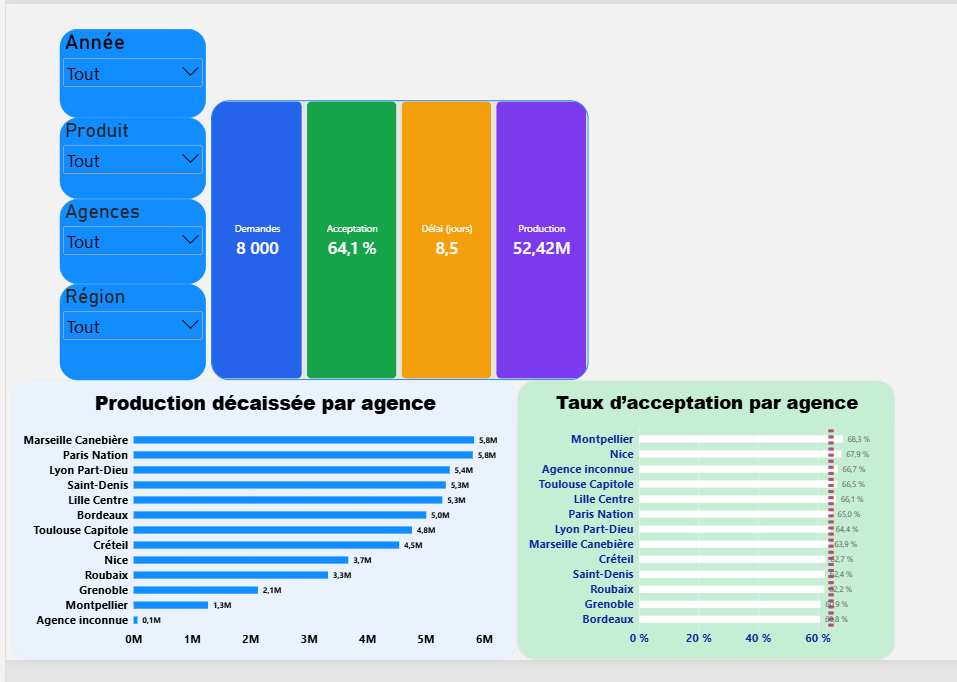

This screenshot's page, from the dashboard's own definition file:
{"tool":"powerbi","page":{"name":"Atelia_Crédit_Réseau_d'Agences","canvas":[1920,1080],"ordinal":2},"visuals":[{"type":"textbox","box":[10,580,280,280],"z":0},{"type":"cardVisual","fields":{"Data":["fact_credit_application.Demandes","fact_credit_application.Taux d'acceptation %","fact_credit_application.Délai moyen d'instruction (jours)","fact_credit_application.Production décaissée"]},"box":[240.8,94.7,621.6,461.1],"z":1000},{"type":"clusteredBarChart","title":"Production décaissée par agence","fields":{"Category":["dim_branch.branch_name"],"Y":["fact_credit_application.Production décaissée"]},"box":[10.3,580.4,831.6,461.1],"z":2000},{"type":"clusteredBarChart","title":"Taux d’acceptation par agence","fields":{"Category":["dim_branch.branch_name"],"Y":["fact_credit_application.Taux d'acceptation %"]},"box":[874.8,619.6,622,461],"z":3000},{"type":"slicer","fields":{"Values":["dim_date.year"]},"box":[0,0,240.8,146.1],"z":4000},{"type":"slicer","fields":{"Values":["dim_branch.region"]},"box":[0,413.7,240.8,158.5],"z":5000},{"type":"slicer","fields":{"Values":["dim_product.product_name"]},"box":[0,140,240.8,133.8],"z":6000},{"type":"slicer","fields":{"Values":["dim_branch.branch_name"]},"box":[0,273.8,240.8,140],"z":7000}]}

Visuals, with their boxes on the page's 1920x1080 design canvas (x1, y1, x2, y2). These are canvas units, not pixel positions in the 957x682 screenshot, which may show the page scaled, cropped or inside an application window:
textbox: (x1=10, y1=580, x2=290, y2=860)
cardVisual - fact_credit_application.Demandes x fact_credit_application.Taux d'acceptation %: (x1=241, y1=95, x2=862, y2=556)
"Production décaissée par agence" clusteredBarChart: (x1=10, y1=580, x2=842, y2=1042)
"Taux d’acceptation par agence" clusteredBarChart: (x1=875, y1=620, x2=1497, y2=1081)
slicer - dim_date.year: (x1=0, y1=0, x2=241, y2=146)
slicer - dim_branch.region: (x1=0, y1=414, x2=241, y2=572)
slicer - dim_product.product_name: (x1=0, y1=140, x2=241, y2=274)
slicer - dim_branch.branch_name: (x1=0, y1=274, x2=241, y2=414)
